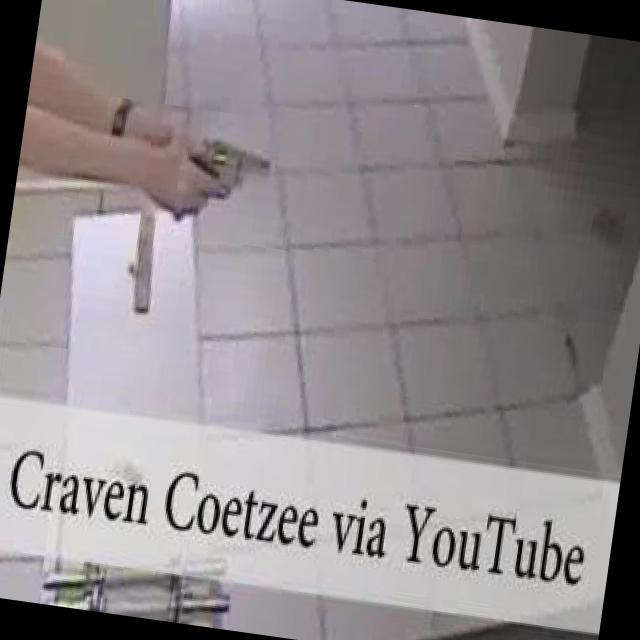Guns: (168, 118, 290, 220)
